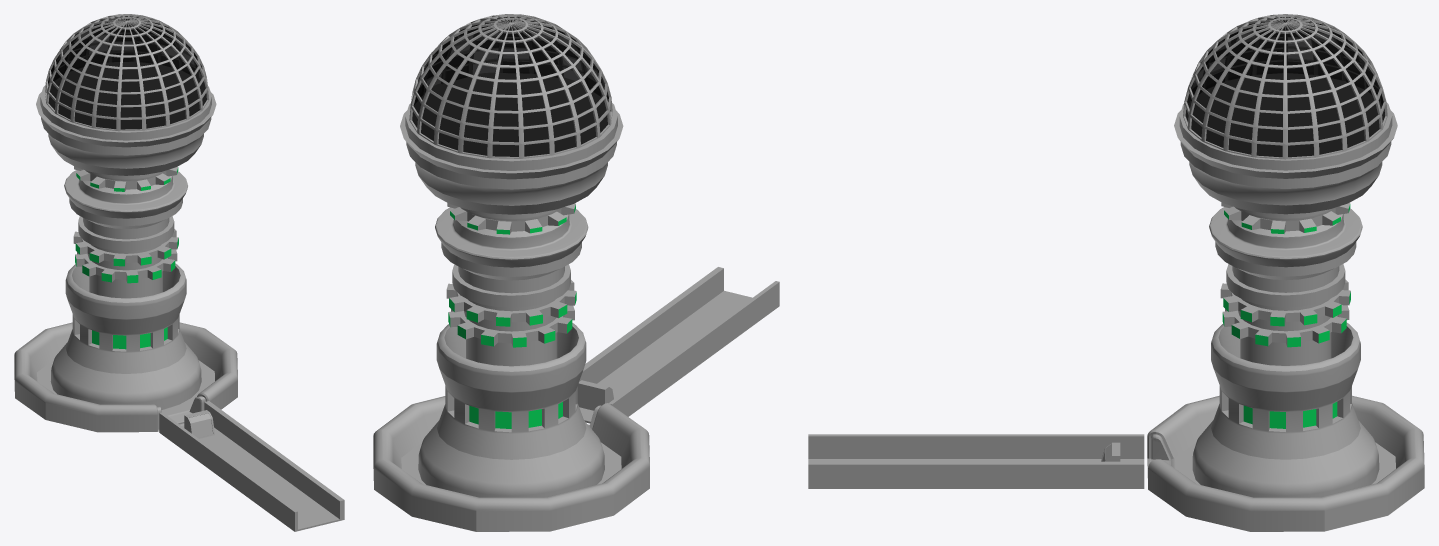
The model's file is SM_Power_generator.fbx.
3 renders of one model, left to right at view 1: azimuth 30°, elevation 25°; view 2: azimuth 150°, elevation 25°; view 3: azimuth 270°, elevation 25°, orthographic. The views are drawn at different scales.
Parts seen in each view (by area): view 1: pCylinder6; view 2: pCylinder6; view 3: pCylinder6.
Boxes of the visible parts, x1,y1,x2,y2 form: pCylinder6: (14, 14, 344, 531); pCylinder6: (373, 14, 779, 531); pCylinder6: (808, 14, 1424, 531).
Bounding box in the file's own units: 423 × 758 × 940.
